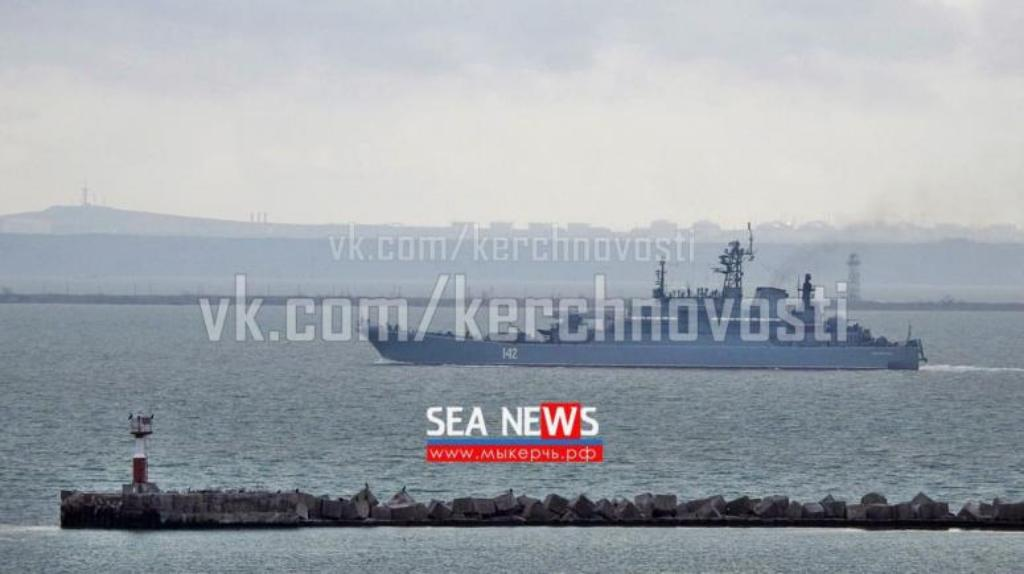Warship: (371, 240, 929, 374)
